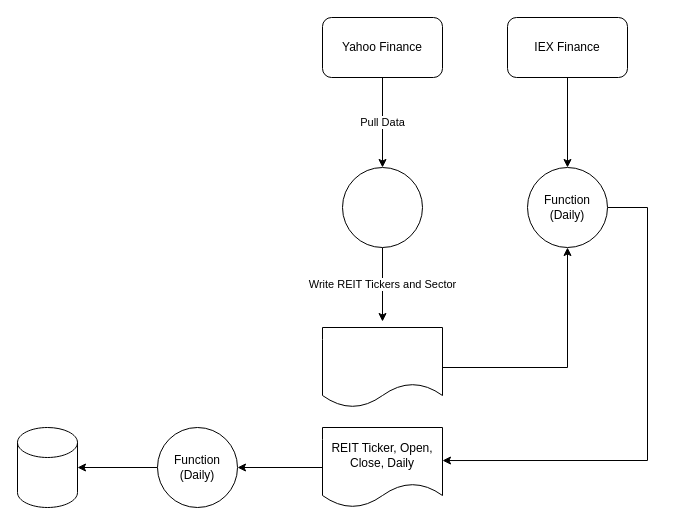
Some shapes in this 673 by 525 pixel diagram are drawn without their labels. The centre of each missing label's shape, as x and y in pixels:
Function (Monthly): pixel 382 207
Github Repo: pixel 47 467
List of Public Reits: pixel 382 367
